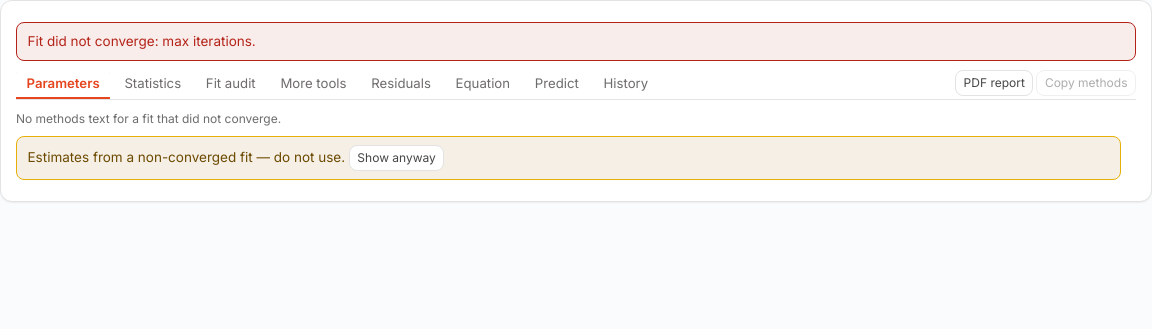
Test: non-converged fit display (UI honesty) › hides the estimates of a non-converged fit behind 'Show anyway'
Expected: the text "Estimates from a non-converged fit — do not use. Show anyway" is shown, [16,136,1121,180]
What coordinates should you click on to do the following:
click the button "Show anyway"
I would click on:
 (397, 158)
Its box is [349,145,444,171].
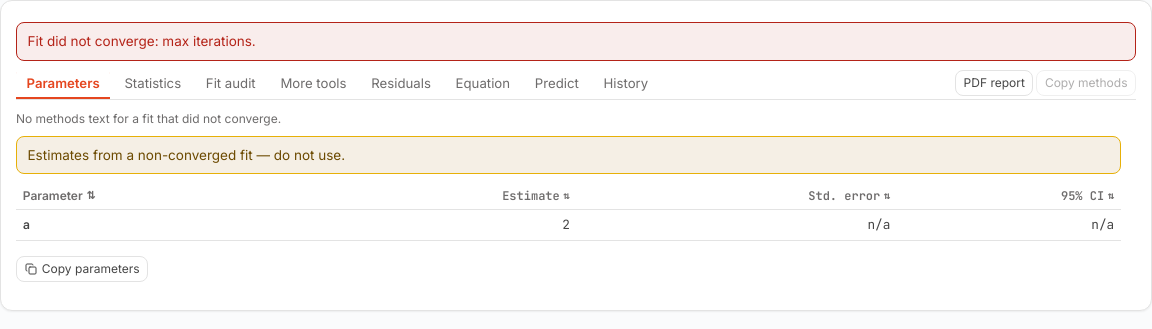
Expected: the table is shown, [16,182,1121,241]
Expected: the text "a" is shown, [23,217,30,233]
